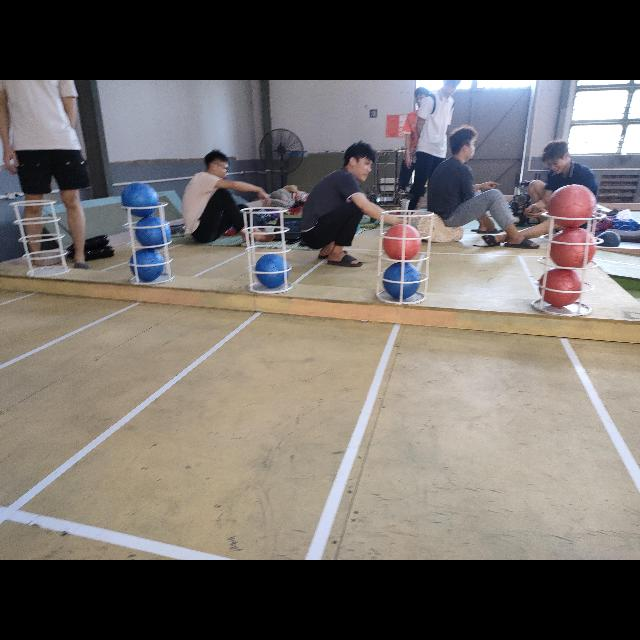B: (121, 182, 161, 218), (128, 248, 168, 282), (254, 252, 292, 286), (134, 218, 174, 248)
R: (548, 183, 598, 229), (537, 268, 585, 308), (547, 232, 599, 268), (382, 221, 424, 261)
